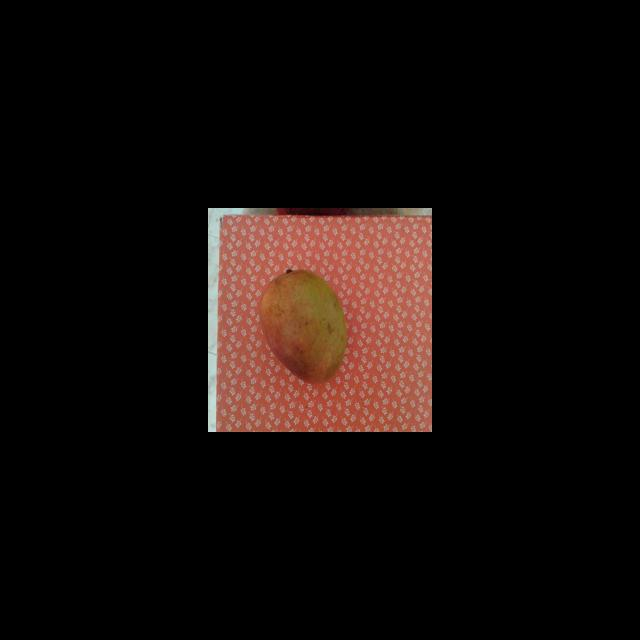Mango: (258, 268, 348, 383)
